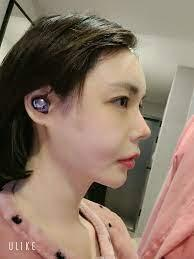earphone: (33, 92, 53, 115)
